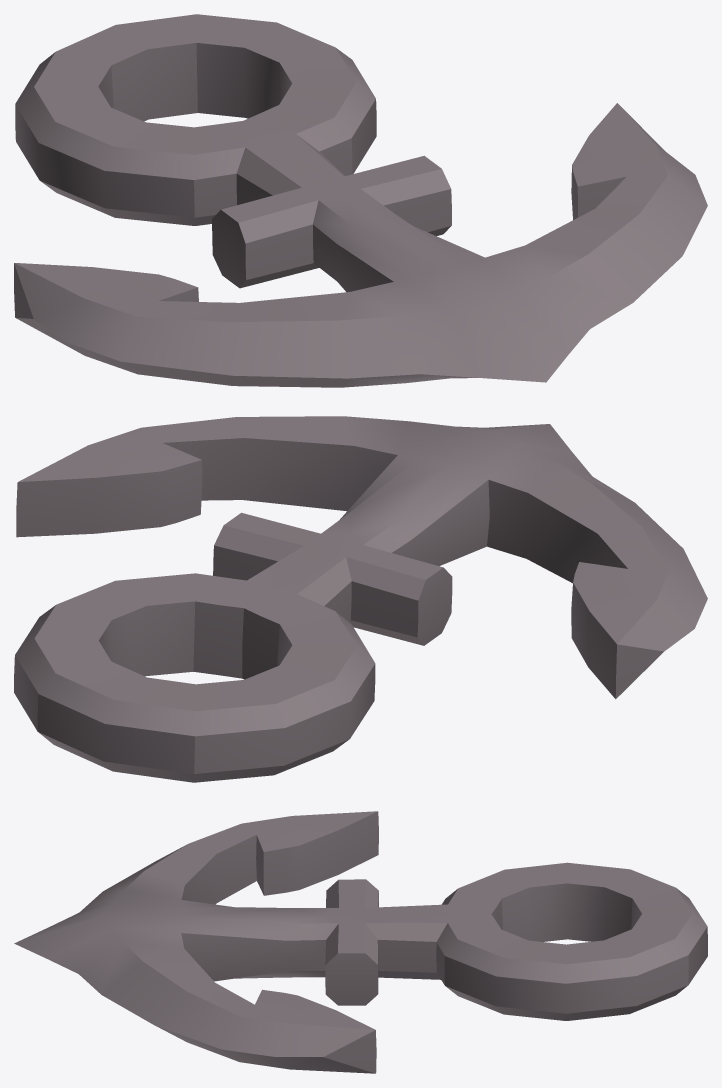
The model's file is o_anchor.glb.
3 renders of one model, top to bottom at view 1: azimuth 30°, elevation 25°; view 2: azimuth 150°, elevation 25°; view 3: azimuth 270°, elevation 25°, orthographic. The views are drawn at different scales.
Parts seen in each view (by area): view 1: Prop_Anchor; view 2: Prop_Anchor; view 3: Prop_Anchor.
Boxes of the visible parts, x1,y1,x2,y2 form: Prop_Anchor: (14,14,707,387); Prop_Anchor: (14,416,707,782); Prop_Anchor: (14,811,707,1073).
Size of the model in its own units: 0.7807 by 0.0932 by 0.9507.
Materials: 1 (1 with a texture image).
